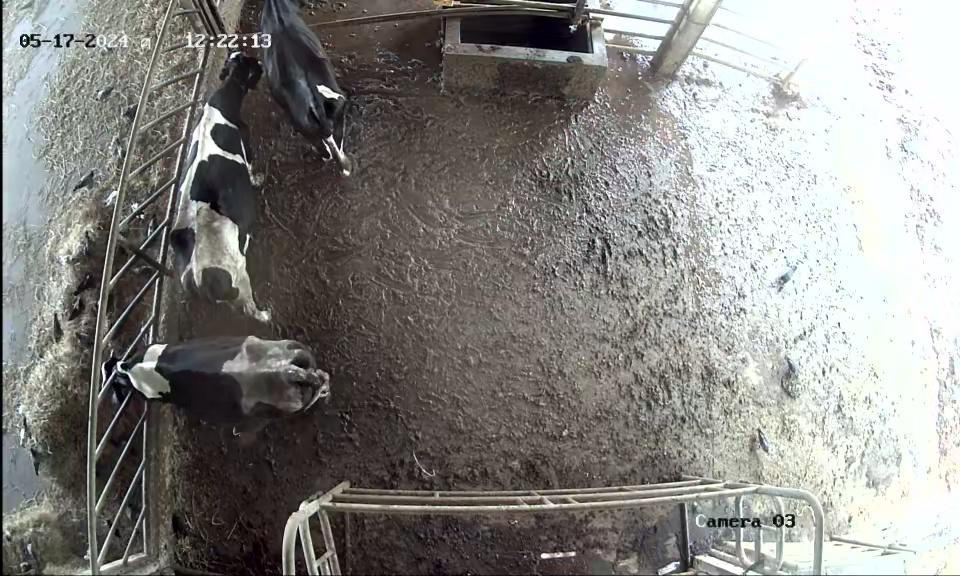eat: (74, 339, 189, 412)
stand: (172, 48, 275, 329), (253, 0, 373, 182)
